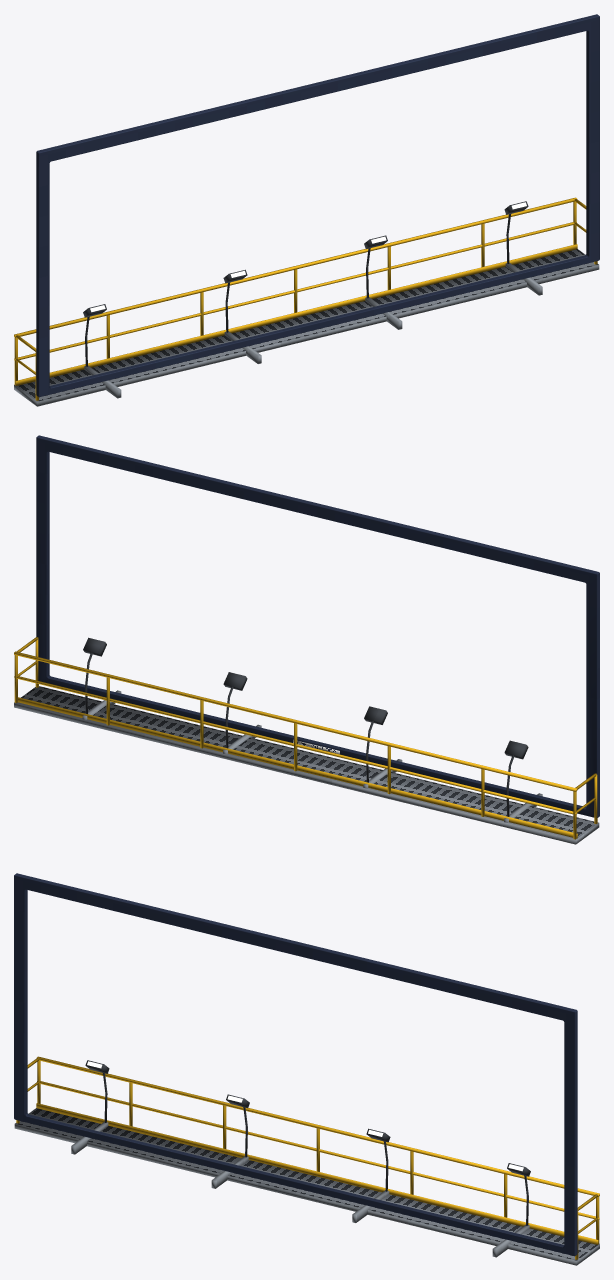
The model's file is p_billboard.glb.
3 renders of one model, top to bottom at view 1: azimuth 30°, elevation 25°; view 2: azimuth 150°, elevation 25°; view 3: azimuth 330°, elevation 25°, orthographic.
Visible parts, largest first — view 1: billboard_lod0; view 2: billboard_lod0; view 3: billboard_lod0.
Part boxes in pixels (box(x1,y1,x2,y2)): billboard_lod0: box(14, 14, 599, 406); billboard_lod0: box(14, 435, 599, 844); billboard_lod0: box(14, 873, 599, 1265).
Size of what is drawn, in the model's own units: 12 by 5.2 by 1.3.
2 materials, 1 textured.
